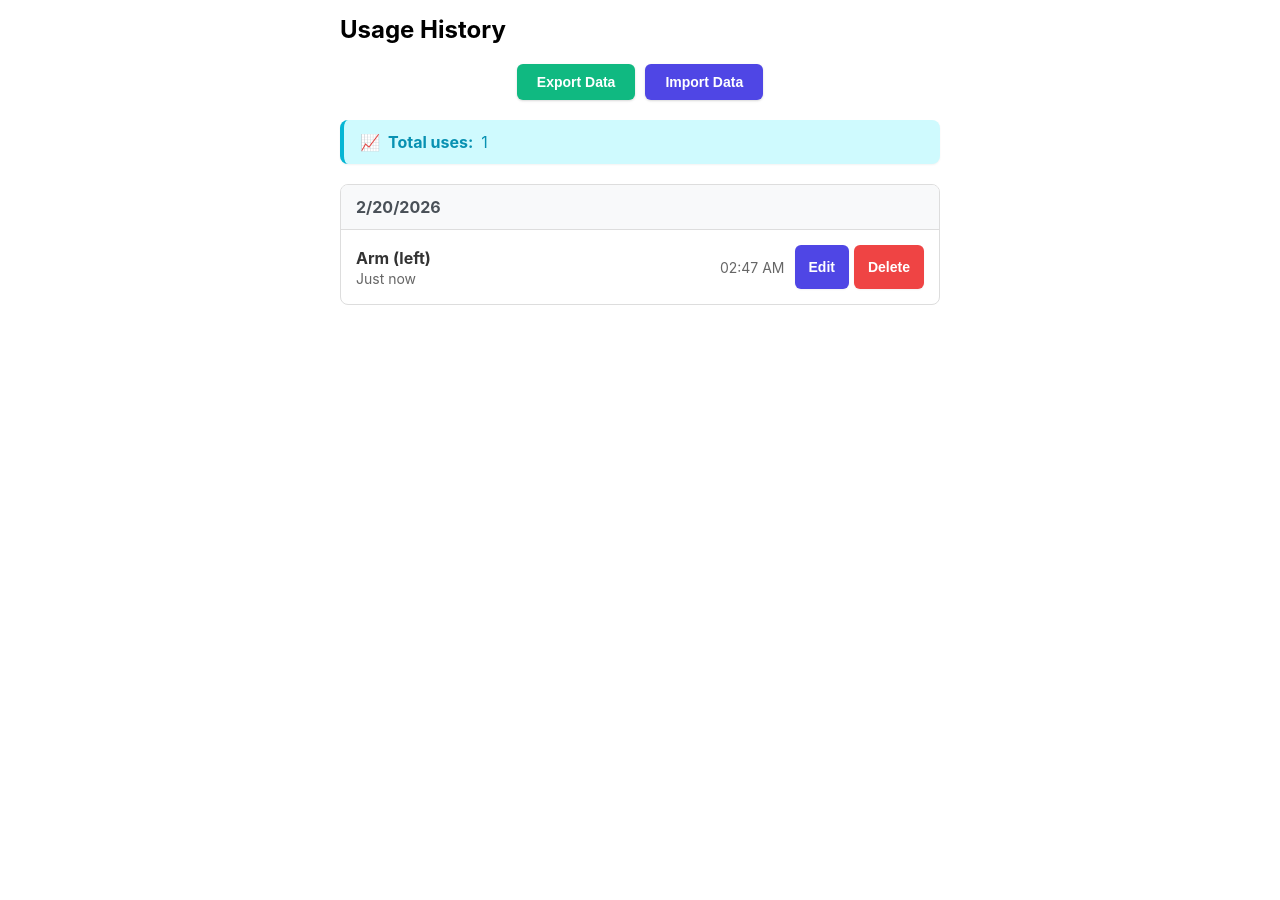
Test: UsageHistory - delete record › deletes a record when user confirms
This screenshot has width=1280, height=900.
Click the button "Delete": x=889, y=267 top-left (854, 245), bottom-right (924, 289)
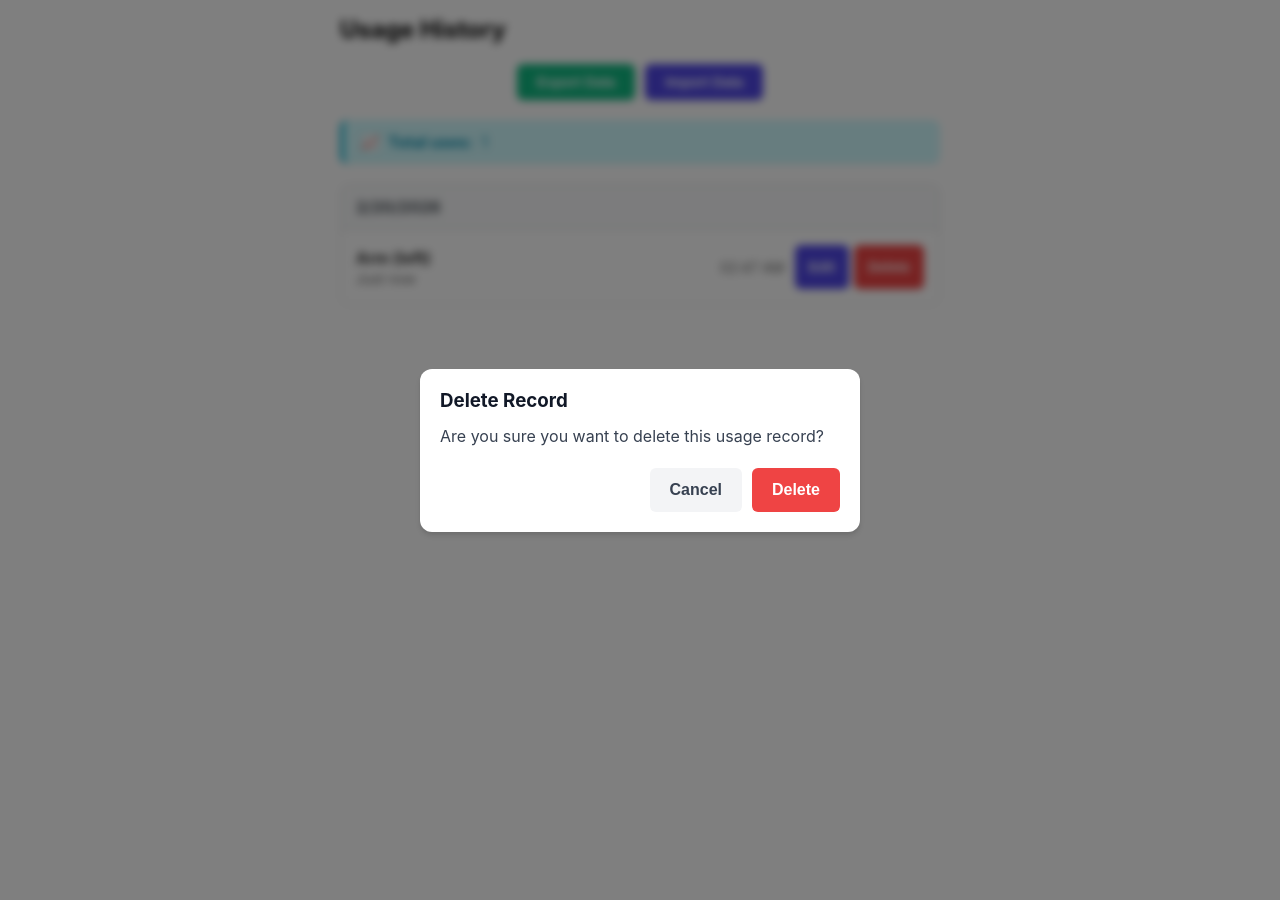
Result: the heading "Delete Record" is shown at top-left (440, 388), bottom-right (568, 412)
Result: the text "Are you sure you want to delete this usage record?" is shown at top-left (440, 424), bottom-right (840, 448)
# Confirm deletion - find all Delete buttons and click the one in the modal (the second one)
Click the button "Delete": x=796, y=490 top-left (752, 468), bottom-right (840, 512)
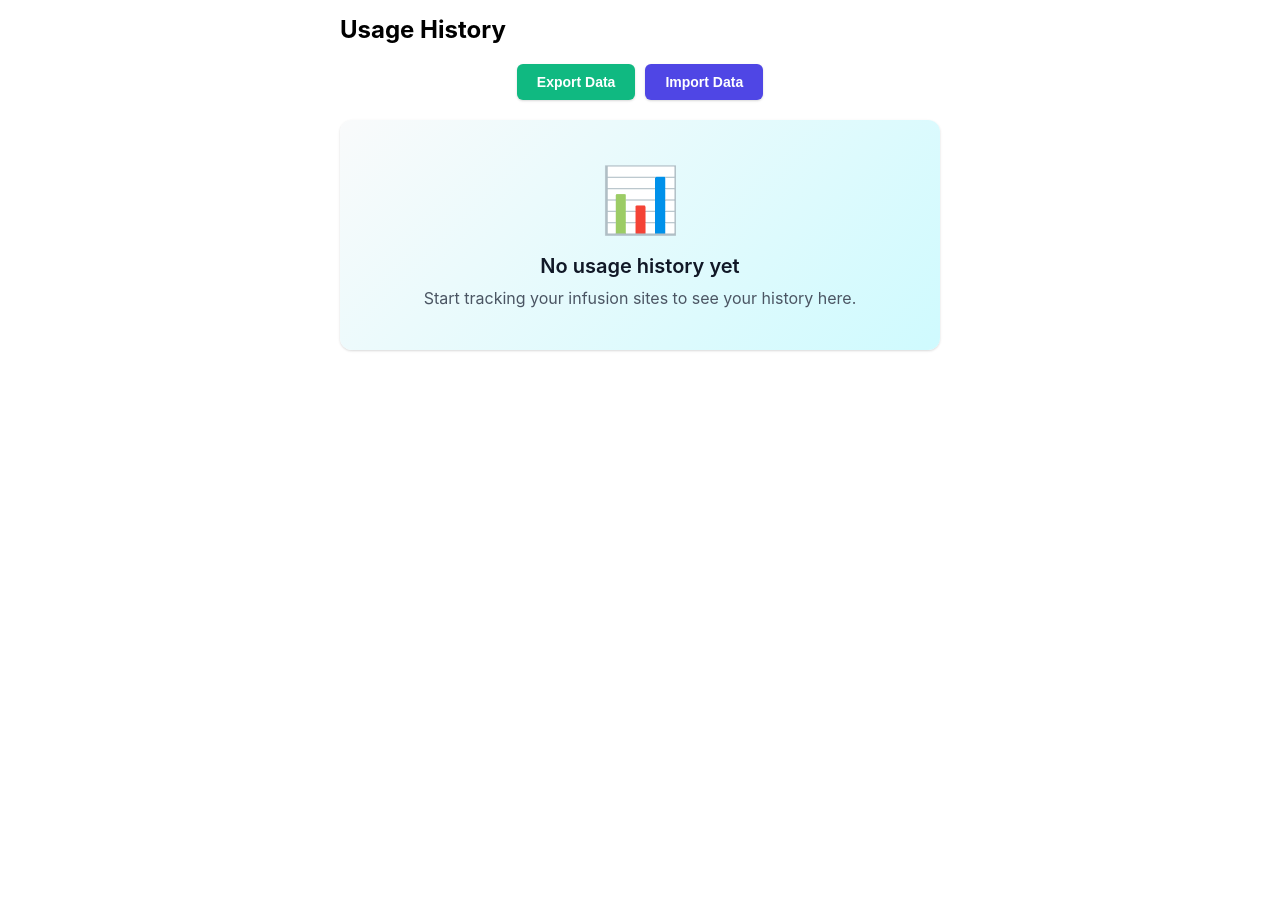
Result: the text "No usage history yet" is shown at top-left (540, 254), bottom-right (740, 278)
